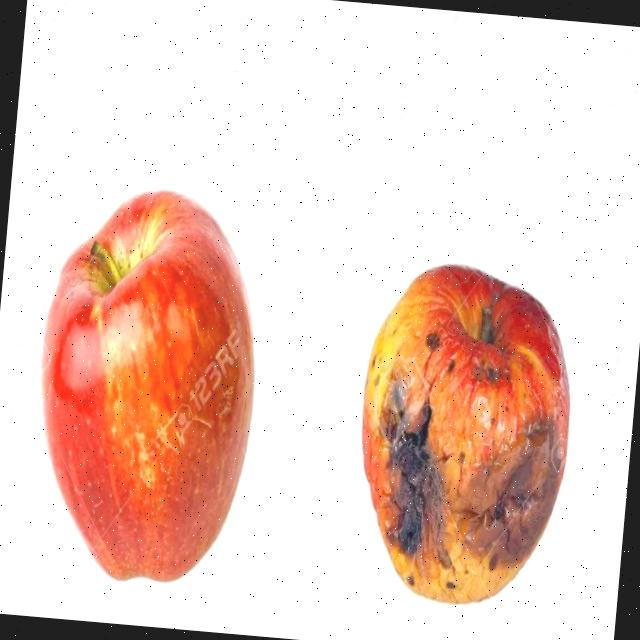apple: (1, 154, 300, 624)
rotten apple: (319, 202, 601, 640)
